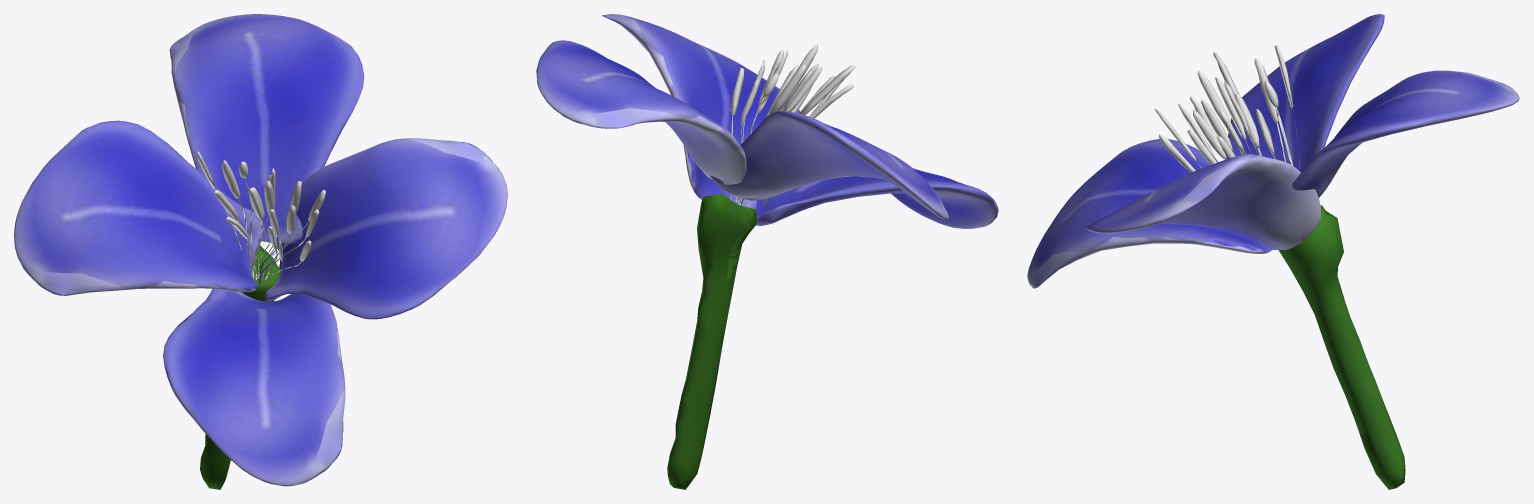
3 renders of one model, left to right at view 1: azimuth 30°, elevation 25°; view 2: azimuth 150°, elevation 25°; view 3: azimuth 270°, elevation 25°, orthographic. The views are drawn at different scales.
Visible parts, largest first — view 1: sansevieriaplant.004; view 2: sansevieriaplant.004; view 3: sansevieriaplant.004.
Part boxes in pixels (bbox=[...]): sansevieriaplant.004: bbox=[14, 14, 507, 489]; sansevieriaplant.004: bbox=[536, 14, 998, 489]; sansevieriaplant.004: bbox=[1027, 14, 1519, 489].
Size of the model in its own units: 0.4068 by 0.4027 by 0.4166.
2 materials, 1 textured.
